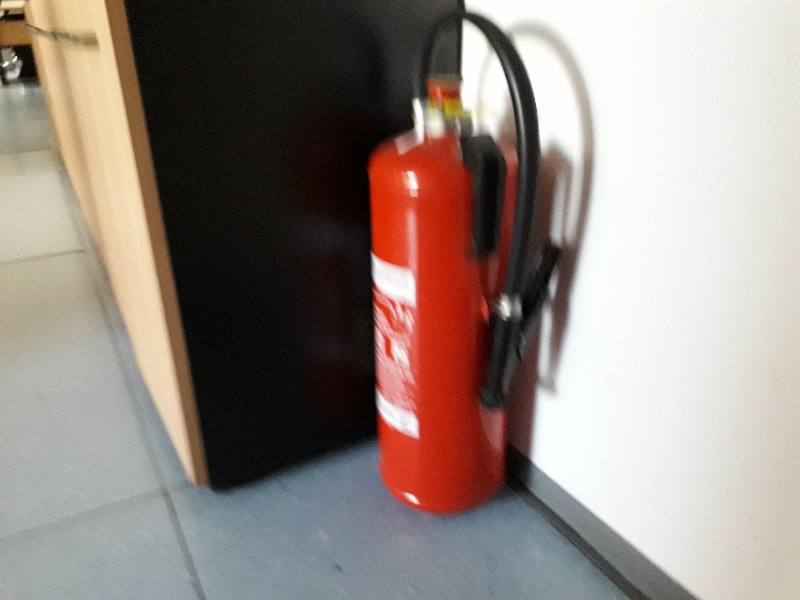vataparat: (366, 16, 540, 516)
